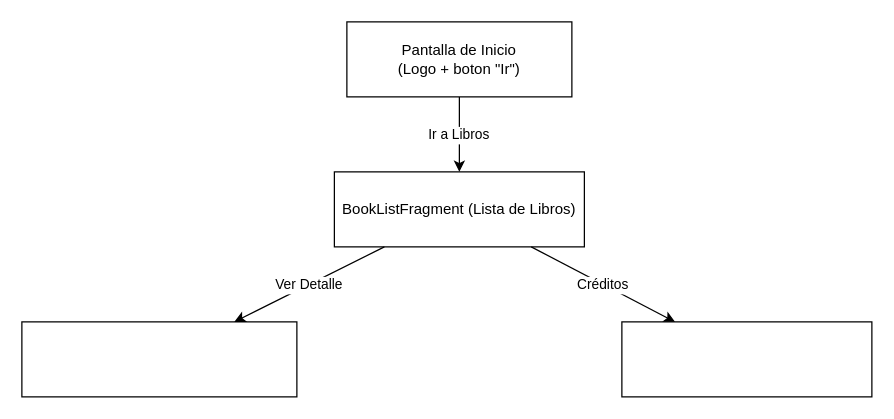
The diagram is 894 pixels wide and 419 high, and some of its shapes have lost their labels. The centre of each missing label's shape, as x and y in pixels:
BookDetailFragment (Detalle del Libro): (159,359)
CreditsFragment (Pantalla Créditos): (746,359)
